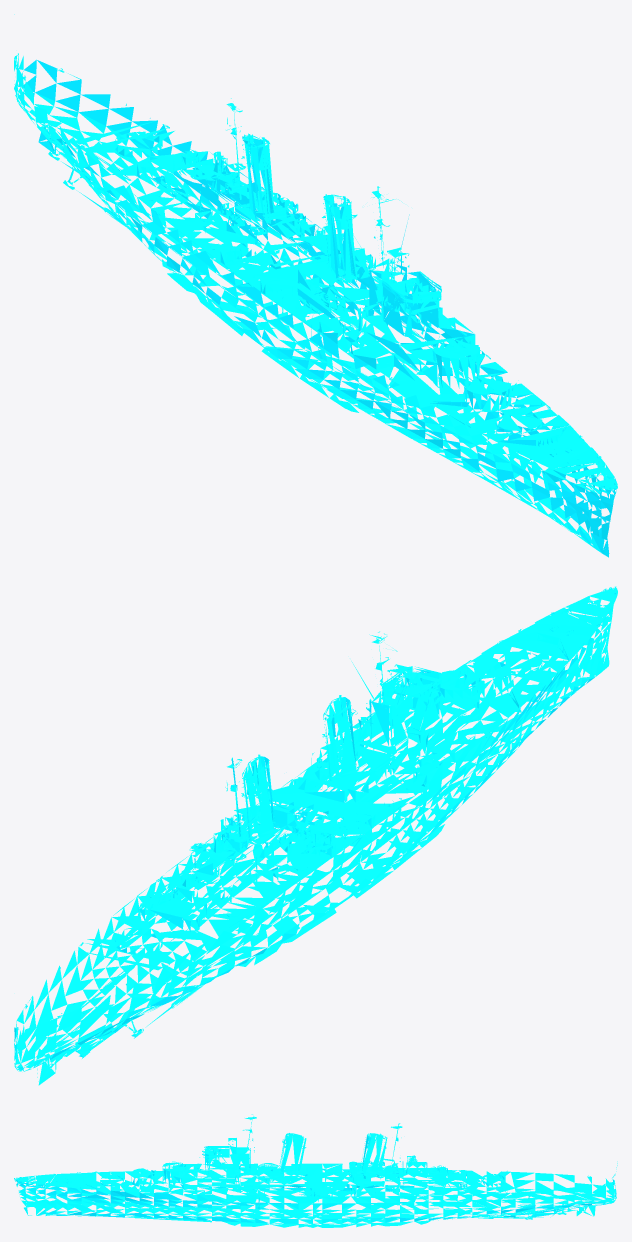
File: Pioneer.glb
3 views of the same model, one above another, from view 1: azimuth 30°, elevation 25°; view 2: azimuth 150°, elevation 25°; view 3: azimuth 270°, elevation 25° (orthographic). The views are drawn at different scales.
Size of the model in its own units: 1.51 by 2.62 by 13.92.
